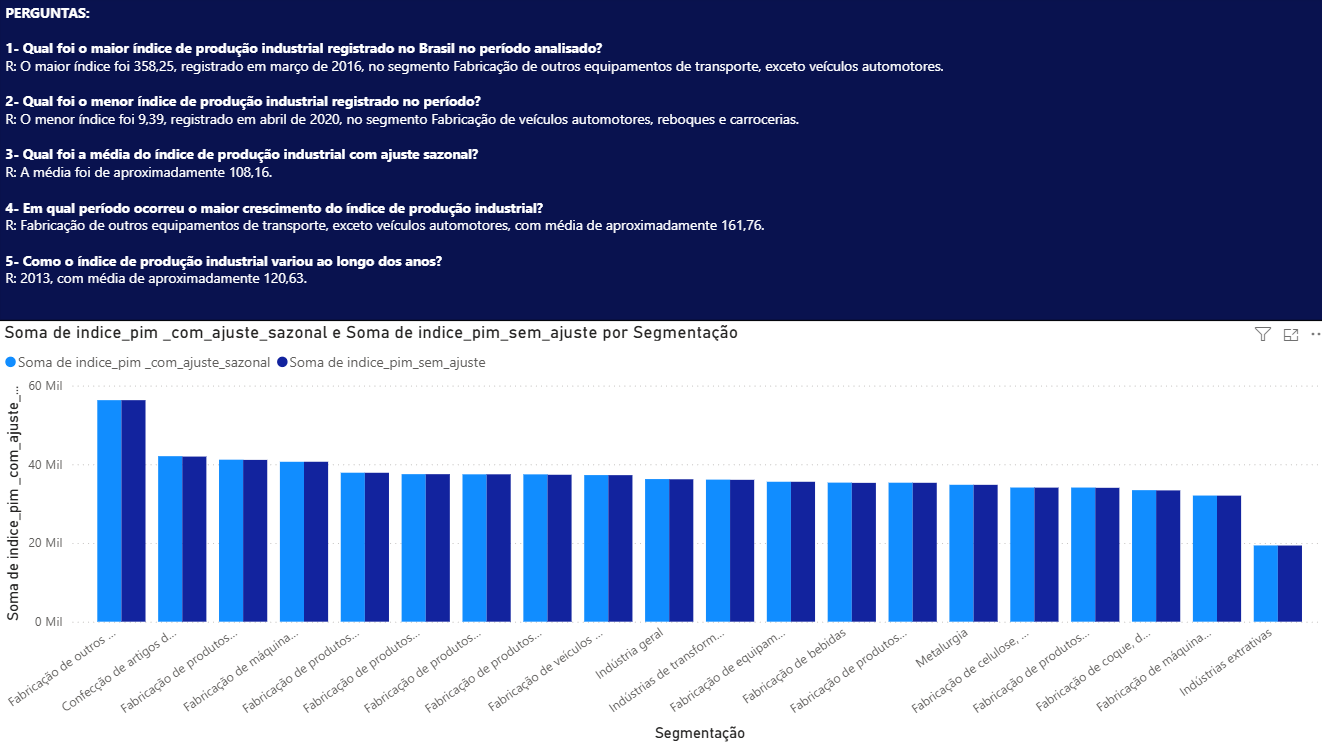

The dashboard page shown, as its layout file describes it:
{"tool":"powerbi","page":{"name":"Página 1","canvas":[1280,720],"ordinal":0},"visuals":[{"type":"textbox","box":[0,0,1280,311.1],"z":0},{"type":"clusteredColumnChart","fields":{"Y":["Sum(base-pim_spbrasil.indice_pim _com_ajuste_sazonal)","Sum(base-pim_spbrasil.indice_pim_sem_ajuste)"],"Category":["base-pim_spbrasil.Segmentação"]},"box":[0,311.1,1280,409.1],"z":1}]}

Visuals, with their boxes in screenshot pixels (x1, y1, x2, y2), scaled from the page's 1280x720 canvas onto the 1322x746 screenshot:
textbox: [0,0,1321,322]
clusteredColumnChart - Sum(base-pim_spbrasil.indice_pim _com_ajuste_sazonal) x Sum(base-pim_spbrasil.indice_pim_sem_ajuste): [0,322,1321,745]
